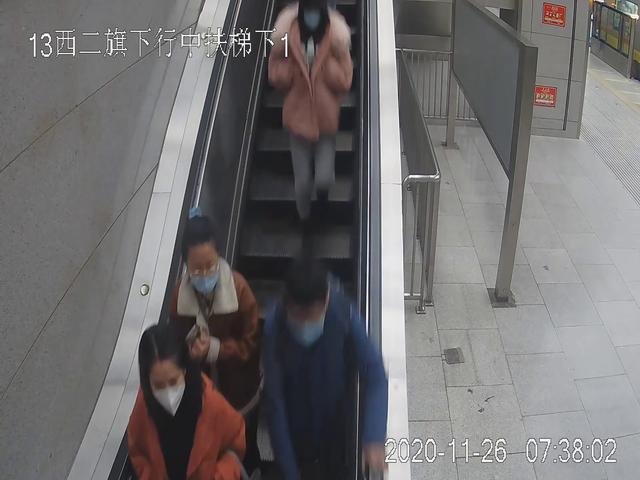person: (161, 208, 264, 480), (264, 264, 389, 480), (268, 1, 354, 260), (125, 326, 249, 480)
